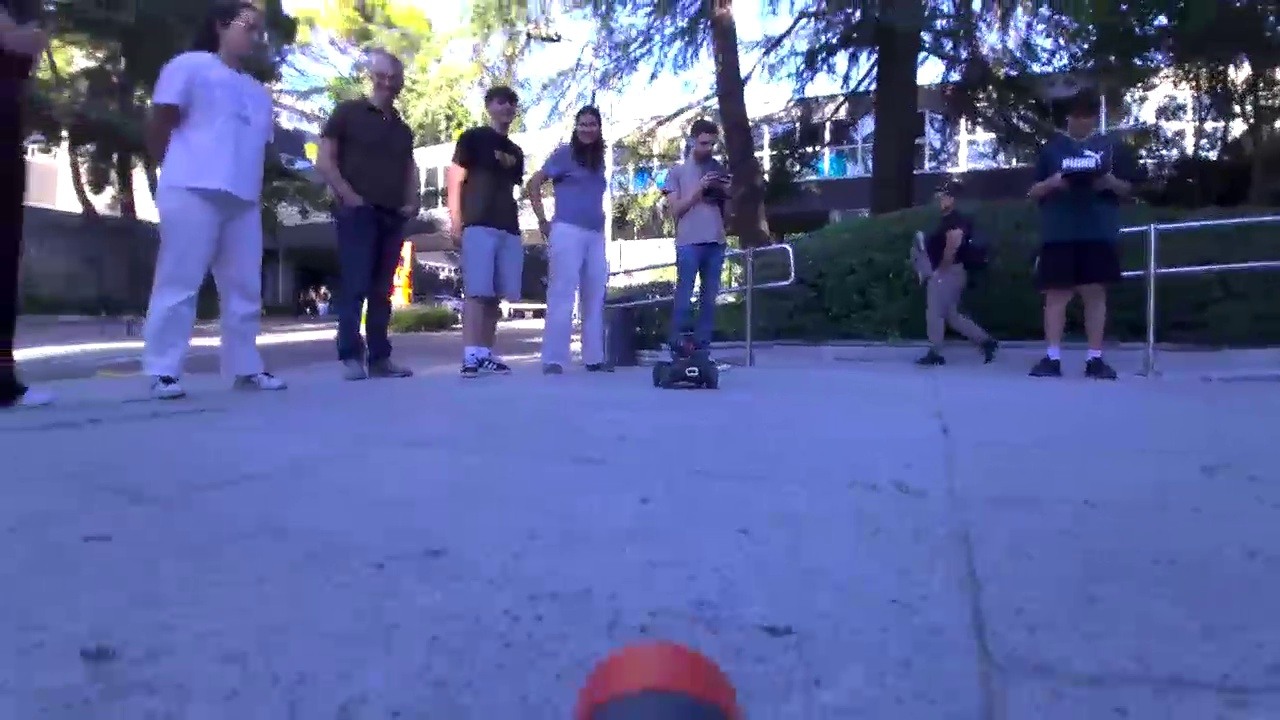robot: (650, 331, 723, 393)
